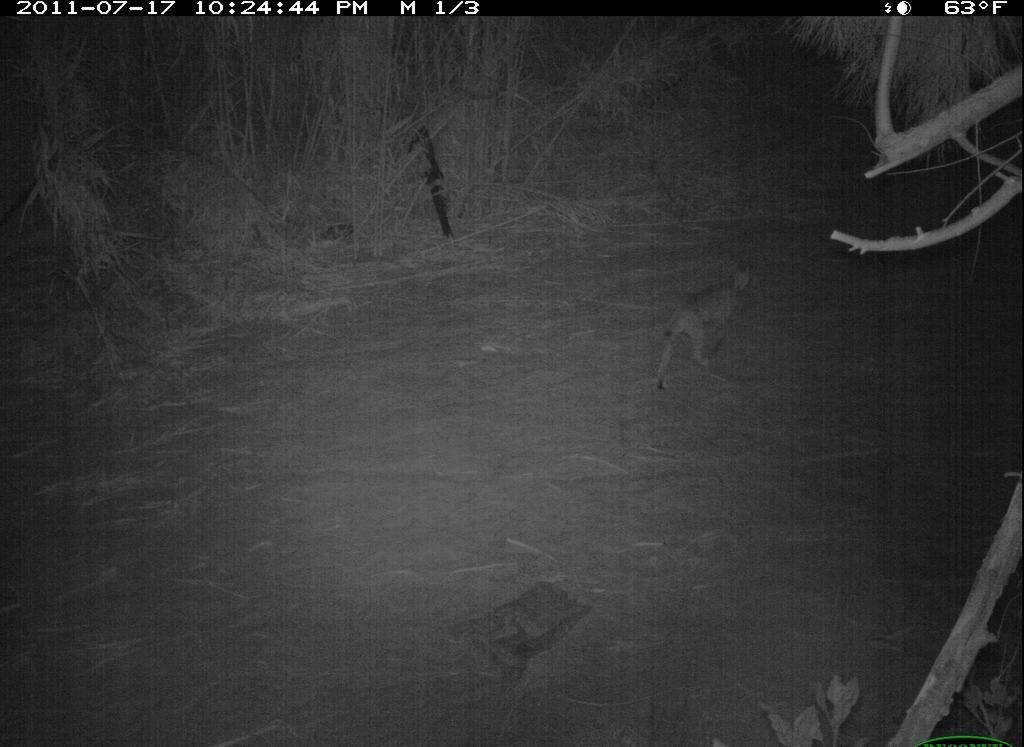bobcat: (651, 257, 766, 393)
